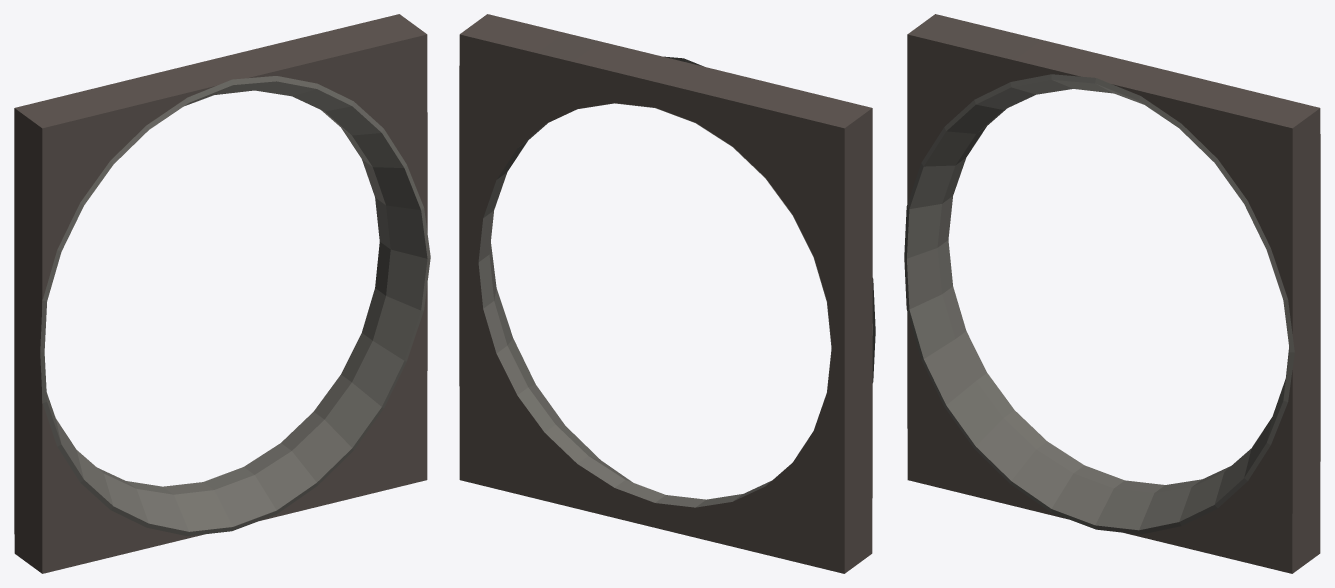
Rendered from MCastle_WindowWall_03_Int_B.FBX.
3 views of the same model, side by side, from view 1: azimuth 30°, elevation 25°; view 2: azimuth 150°, elevation 25°; view 3: azimuth 330°, elevation 25° (orthographic).
Parts seen in each view (by area): view 1: MCastle_WindowWall_03_Int_B_LOD0; view 2: MCastle_WindowWall_03_Int_B_LOD0; view 3: MCastle_WindowWall_03_Int_B_LOD0.
Boxes of the visible parts, left/top/right/bottom form: MCastle_WindowWall_03_Int_B_LOD0: left=14, top=14, right=430, bottom=573; MCastle_WindowWall_03_Int_B_LOD0: left=459, top=14, right=875, bottom=573; MCastle_WindowWall_03_Int_B_LOD0: left=904, top=14, right=1320, bottom=573.
Size of what is drawn, in the model's own units: 4.12 by 4.55 by 0.5435.
